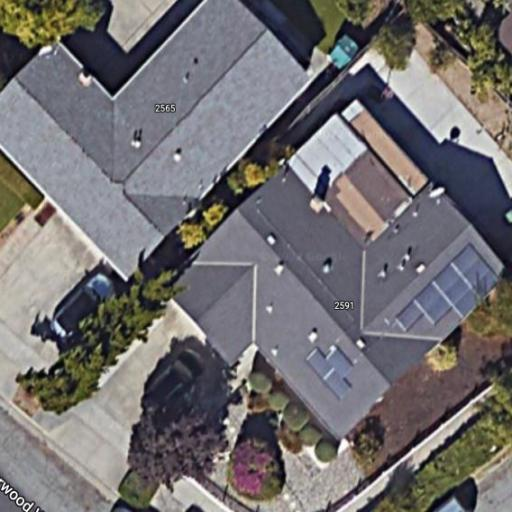Solar-Slope-Roof: (163, 117, 505, 440)
